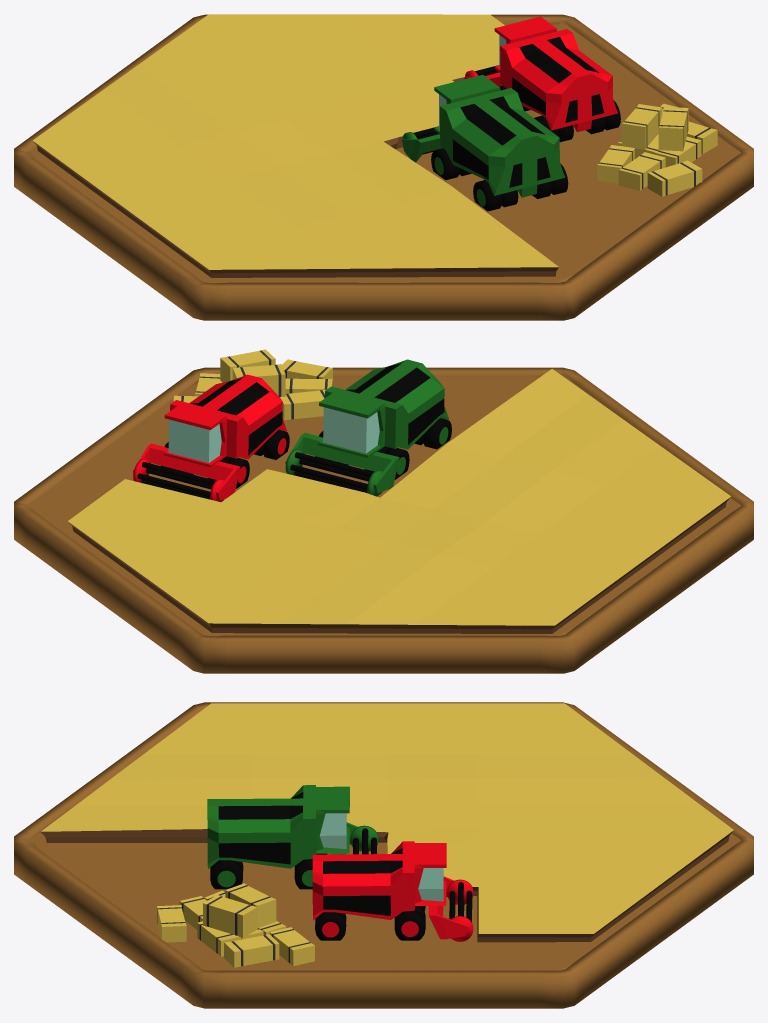
The model's file is Harvester_Tile.fbx.
3 renders of one model, top to bottom at view 1: azimuth 30°, elevation 25°; view 2: azimuth 150°, elevation 25°; view 3: azimuth 270°, elevation 25°, orthographic.
Visible parts, largest first — view 1: Cylinder.001, Cylinder.003; view 2: Cylinder.001, Cylinder.003; view 3: Cylinder.001, Cylinder.003.
Part boxes in pixels (box(x1,y1,x2,y2)): Cylinder.001: box(26, 14, 741, 282); Cylinder.003: box(14, 14, 753, 320); Cylinder.001: box(26, 349, 741, 635); Cylinder.003: box(14, 367, 753, 673); Cylinder.001: box(27, 703, 741, 970); Cylinder.003: box(14, 702, 753, 1008).
Bounding box in the file's own units: 100 × 17.38 × 114.
